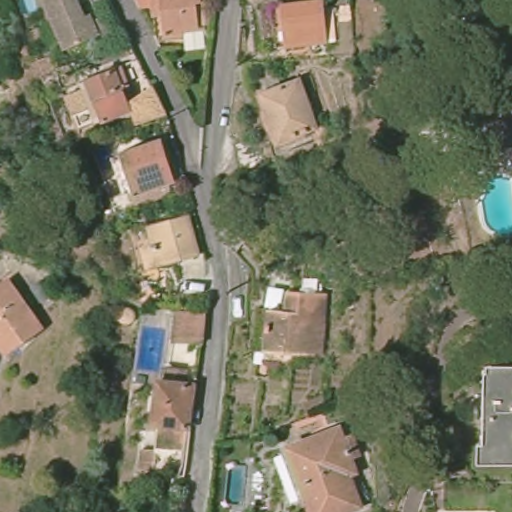pool: (478, 170, 512, 238), (136, 324, 166, 374), (222, 459, 249, 505), (15, 1, 46, 18)
